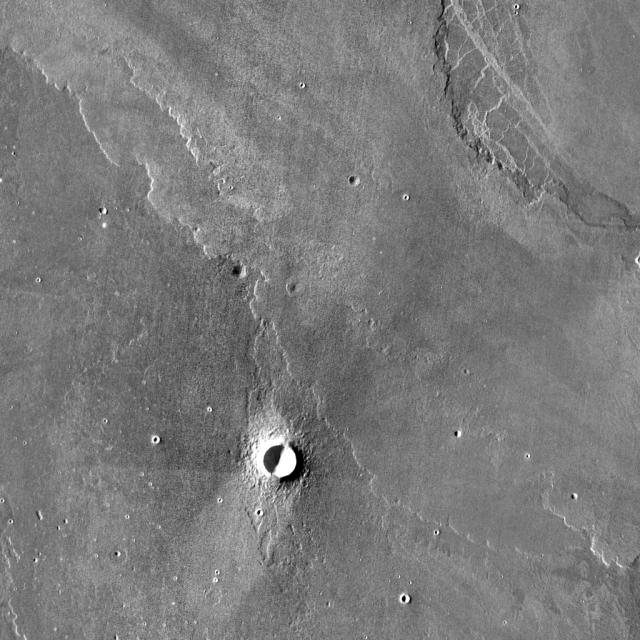crater: (264, 447, 296, 478), (238, 264, 250, 276), (354, 174, 365, 184), (402, 596, 412, 605), (448, 424, 456, 431), (97, 200, 104, 207), (568, 487, 576, 493), (113, 545, 119, 551)
